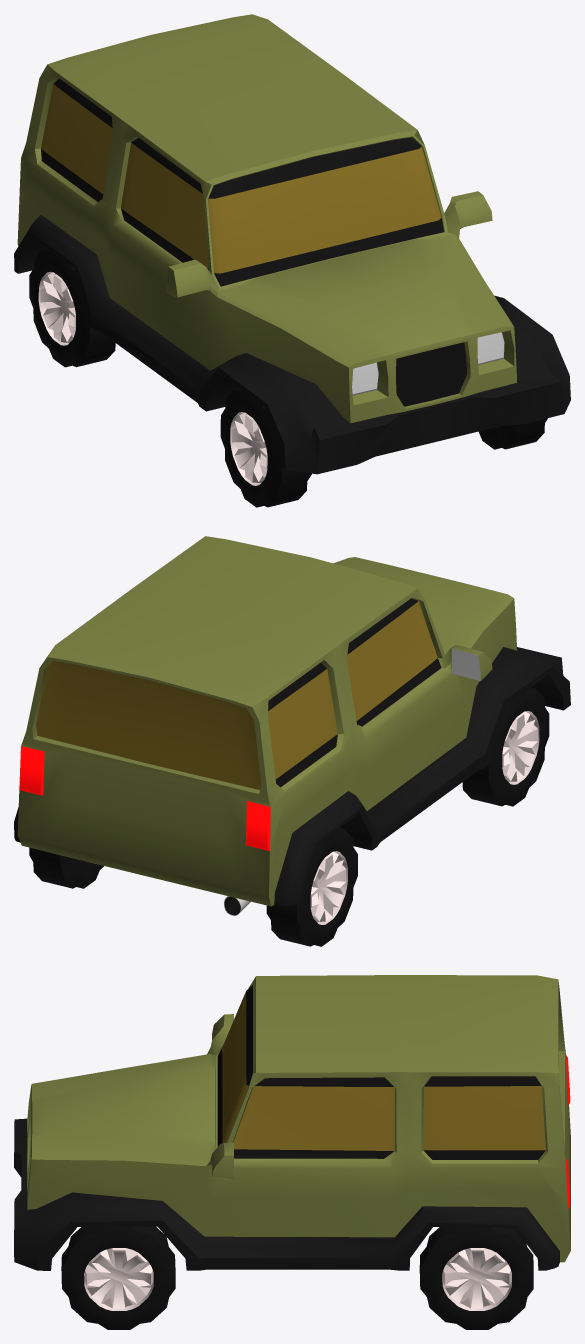
Rendered from jeep.fbx.
3 renders of one model, top to bottom at view 1: azimuth 30°, elevation 25°; view 2: azimuth 150°, elevation 25°; view 3: azimuth 270°, elevation 25°, orthographic. The views are drawn at different scales.
Visible parts, largest first — view 1: Cube.034, Cube.017, Cube.016, Cube.011; view 2: Cube.034, Cube.016, Cube.017, Cube.015; view 3: Cube.034, Cube.011, Cube.015.
Boxes of the visible parts, x1,y1,x2,y2 form: Cube.034: (14,14,570,474); Cube.017: (220,388,311,507); Cube.016: (29,248,115,367); Cube.011: (478,418,547,449); Cube.034: (14,536,570,915); Cube.016: (266,828,357,946); Cube.017: (462,687,549,806); Cube.015: (29,847,103,888); Cube.034: (14,975,570,1270); Cube.011: (61,1226,175,1329); Cube.015: (419,1227,533,1329).
Size of the model in its own units: 606 by 490 by 991.
